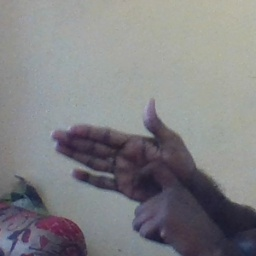R: (53, 97, 192, 236)
